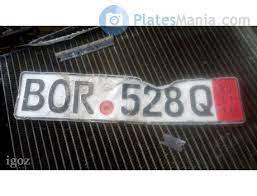2: (143, 83, 163, 118)
5: (120, 81, 141, 118)
8: (163, 83, 186, 117)
B: (21, 78, 45, 112)
O: (46, 78, 71, 113)
Q: (188, 84, 214, 119)
R: (72, 78, 96, 116)
